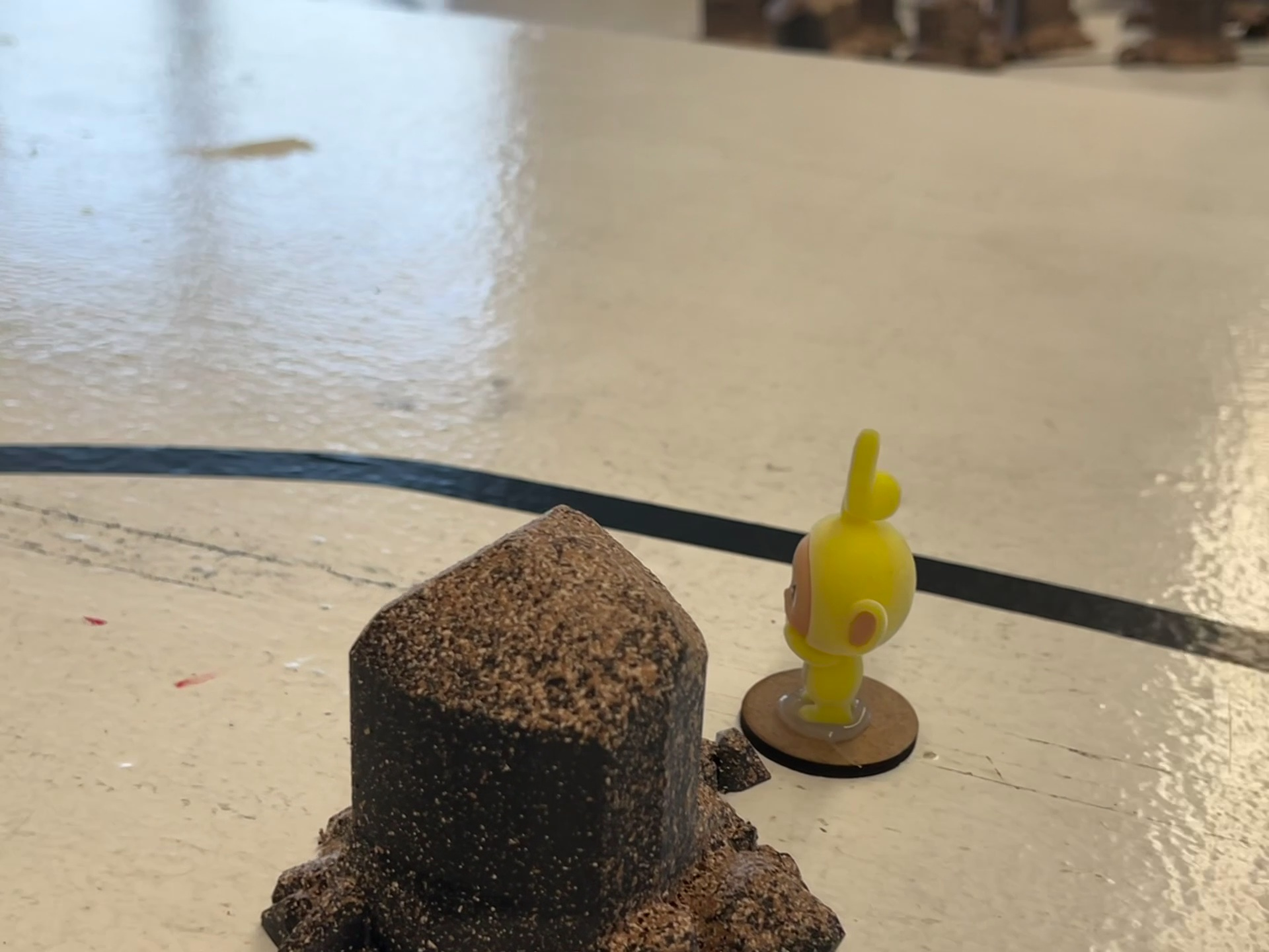teletubby: (785, 430, 916, 725)
